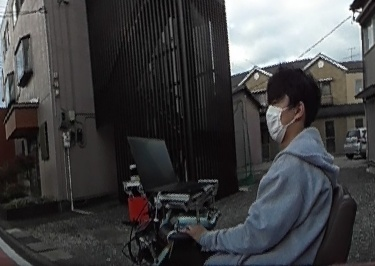person: (202, 65, 337, 266)
